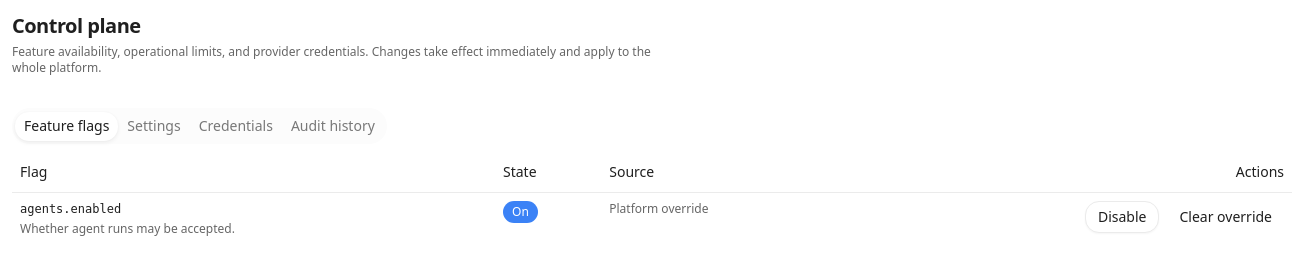
Test case: feature flags › offers clearing only when an override exists
expect the text "agents.enabled" is shown: met, box [20,202,121,216]
Click the button "Clear override" at (1226, 216), box [1168,200,1284,232]
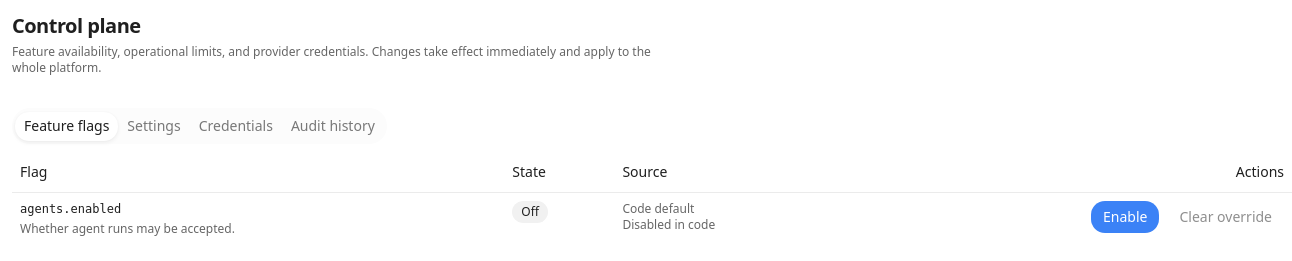
expect the text "Code default Disabled in code" is shown: met, box [614,192,846,244]
